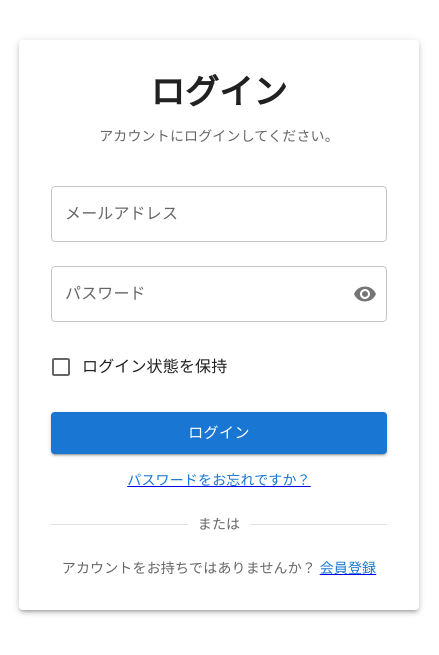
Test case: LoginForm › shows validation errors for empty fields on submit
The width and height of the screenshot is (439, 655).
Click the button "ログイン" at (219, 433), box [51,412,387,454]
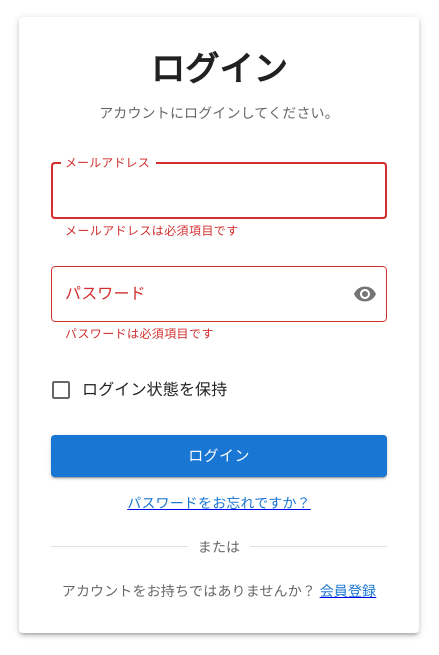
Expected: the text "メールアドレスは必須項目です" is shown, [65,224,239,238]
Expected: the text "パスワードは必須項目です" is shown, [65,327,214,341]
